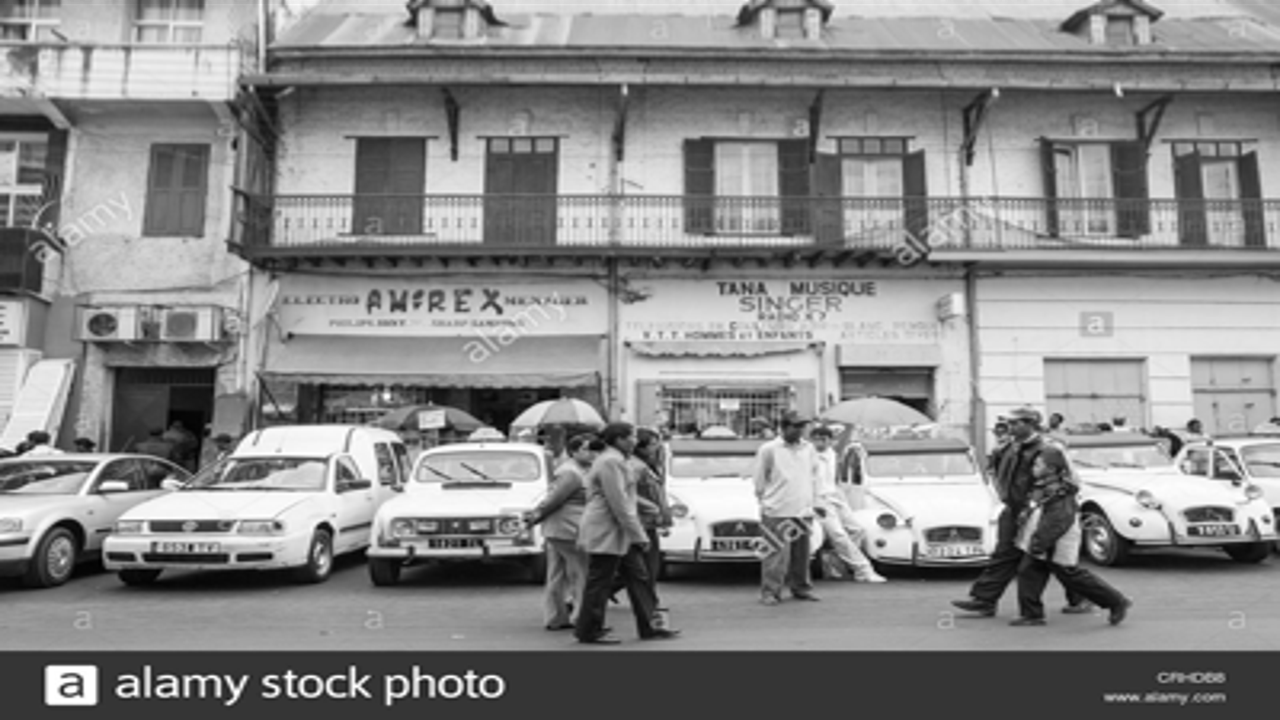license: (918, 537, 990, 565), (707, 534, 770, 561), (1181, 521, 1249, 546), (147, 539, 222, 559)
